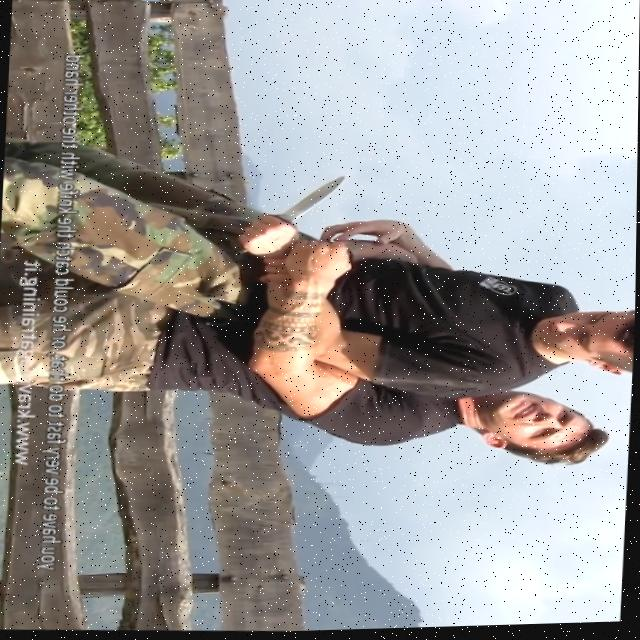knife: (277, 174, 348, 221)
